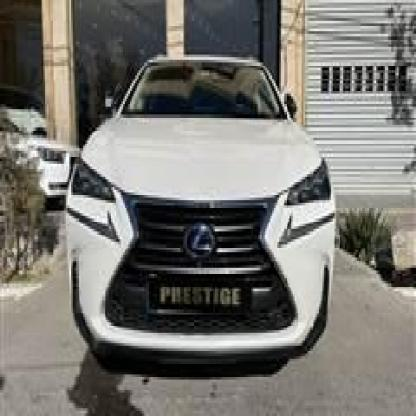Car: (67, 34, 340, 374), (0, 86, 90, 213)
